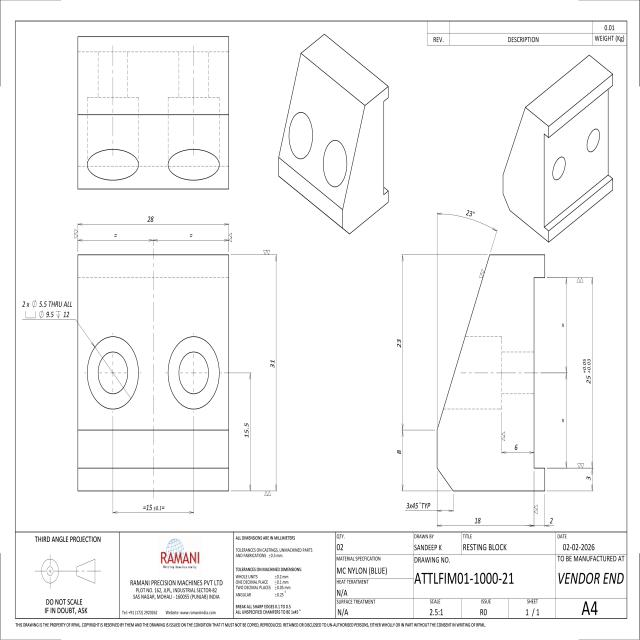dimension: (22, 299, 73, 319), (582, 357, 592, 385), (141, 502, 166, 512), (406, 501, 432, 509), (243, 421, 249, 439), (465, 208, 475, 218), (146, 214, 155, 224), (473, 516, 482, 526), (269, 358, 276, 369), (396, 337, 402, 349), (548, 516, 555, 525), (188, 231, 195, 239), (513, 443, 519, 452), (112, 232, 118, 239), (585, 475, 591, 482), (396, 449, 402, 455), (561, 417, 566, 424), (560, 322, 565, 328)
